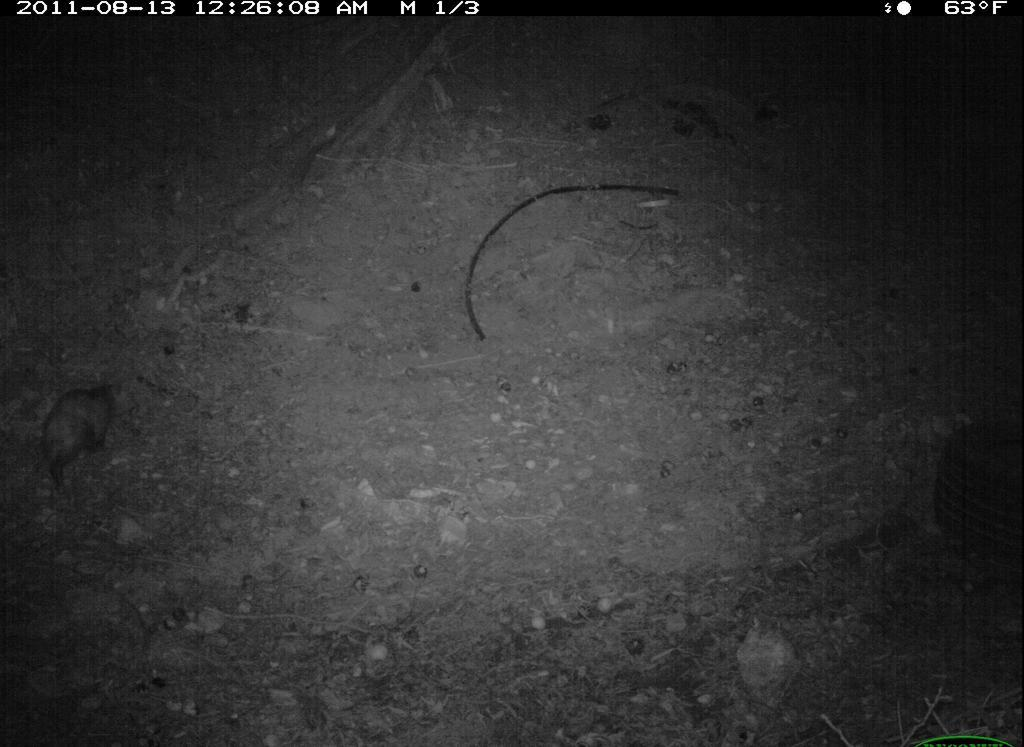opossum: (29, 370, 117, 495)
